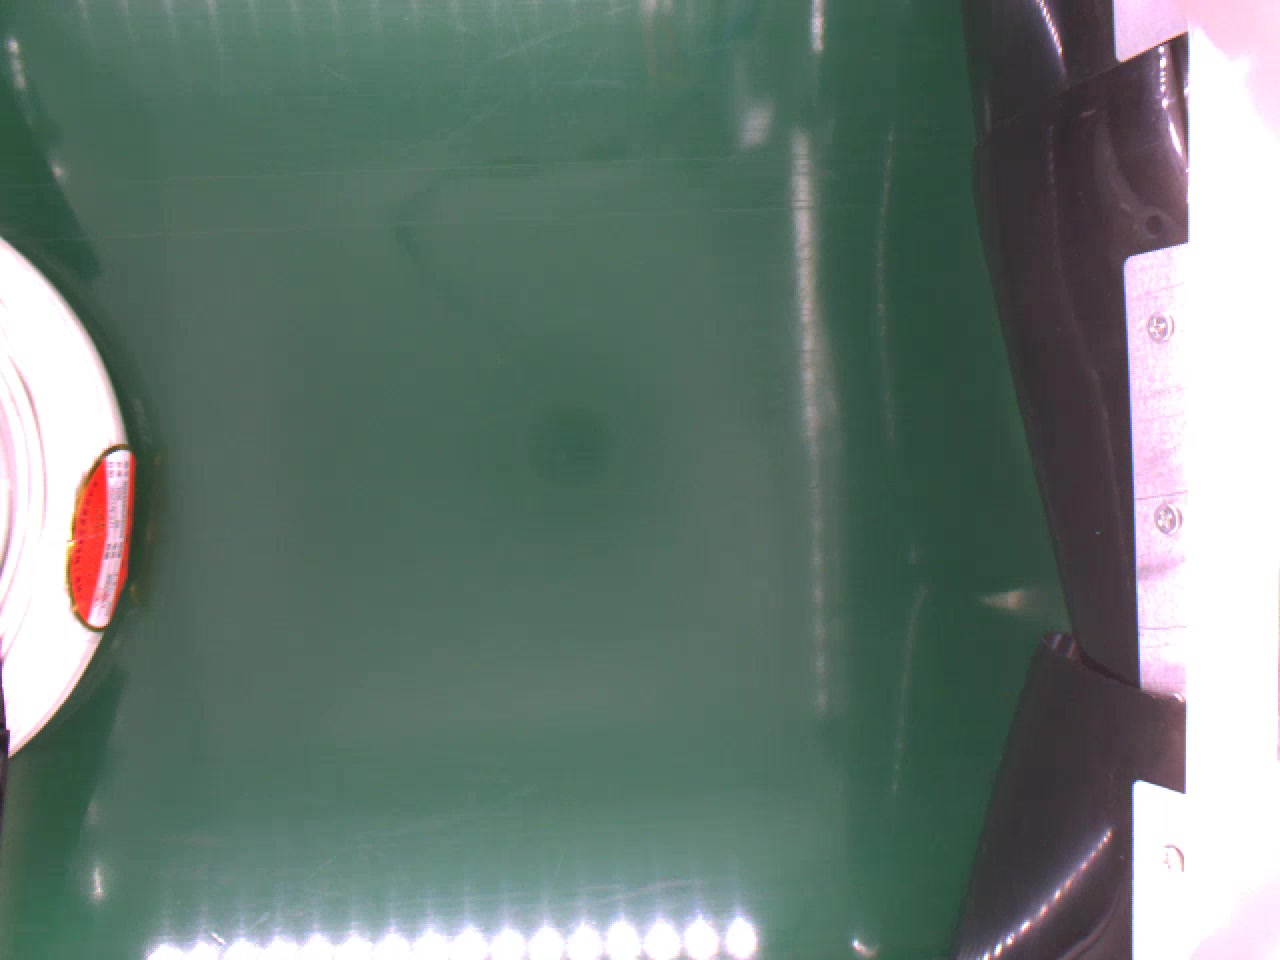white: (0, 230, 131, 755)
